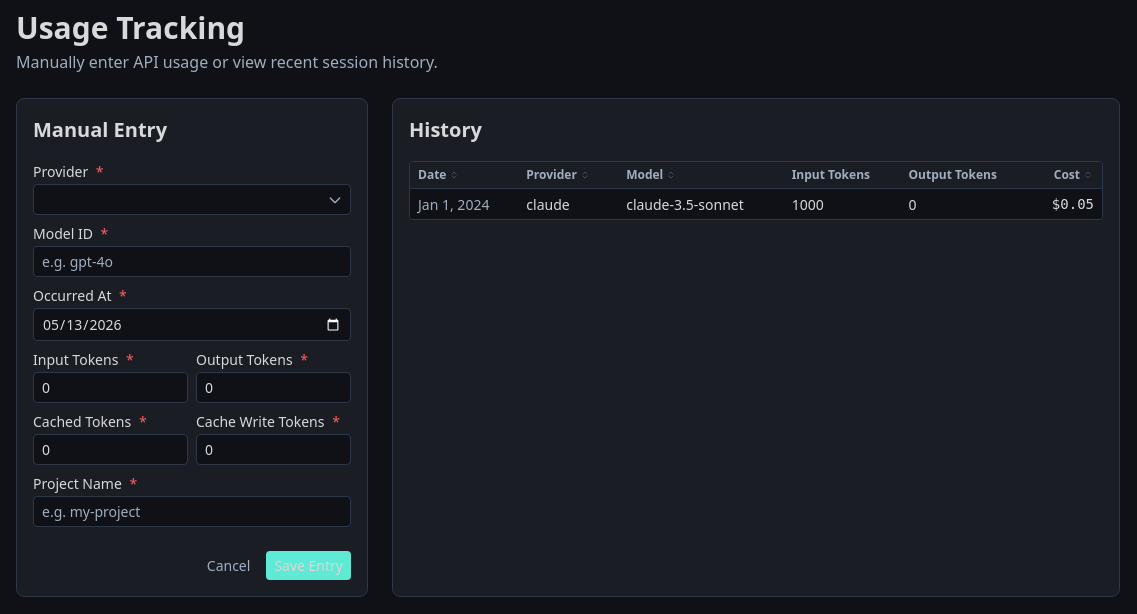
Test: Usage Page › submits the form successfully and shows a notification
Select "Claude Code" in the dropdown labelled "Provider *" at (192, 200), box [33,184,351,215]
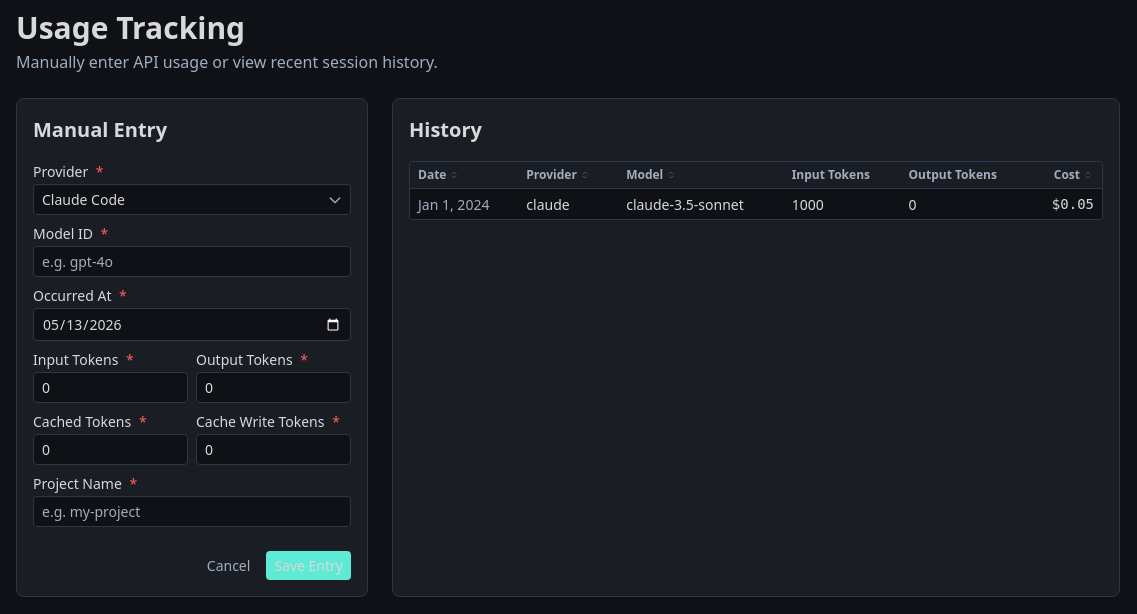
Type "claude-3.5-sonnet" into the field labelled "Model ID *" at (192, 262), box [33,246,351,277]
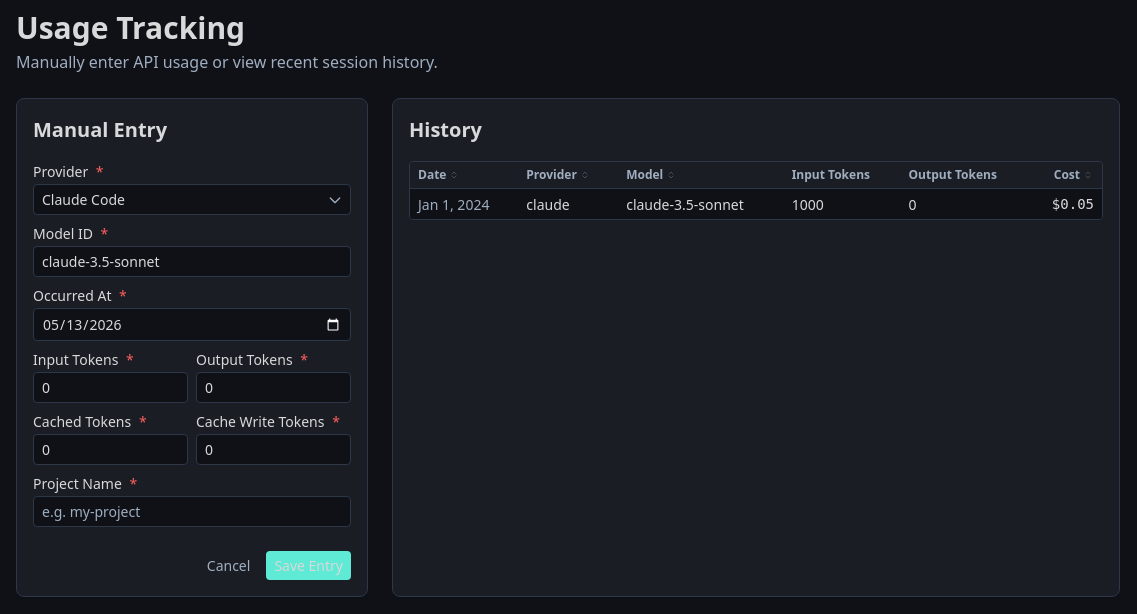
Replace the text in the number field labelled "Input Tokens *" with "1000" at (110, 388), box [33,372,188,403]
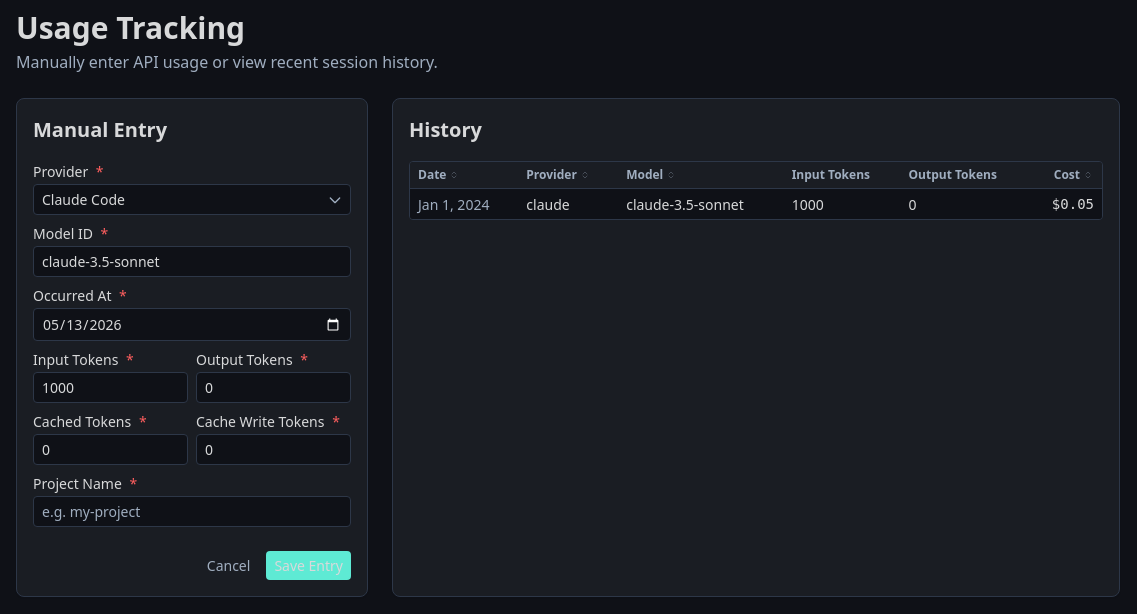
Replace the text in the number field labelled "Output Tokens *" with "500" at (274, 388), box [196,372,351,403]
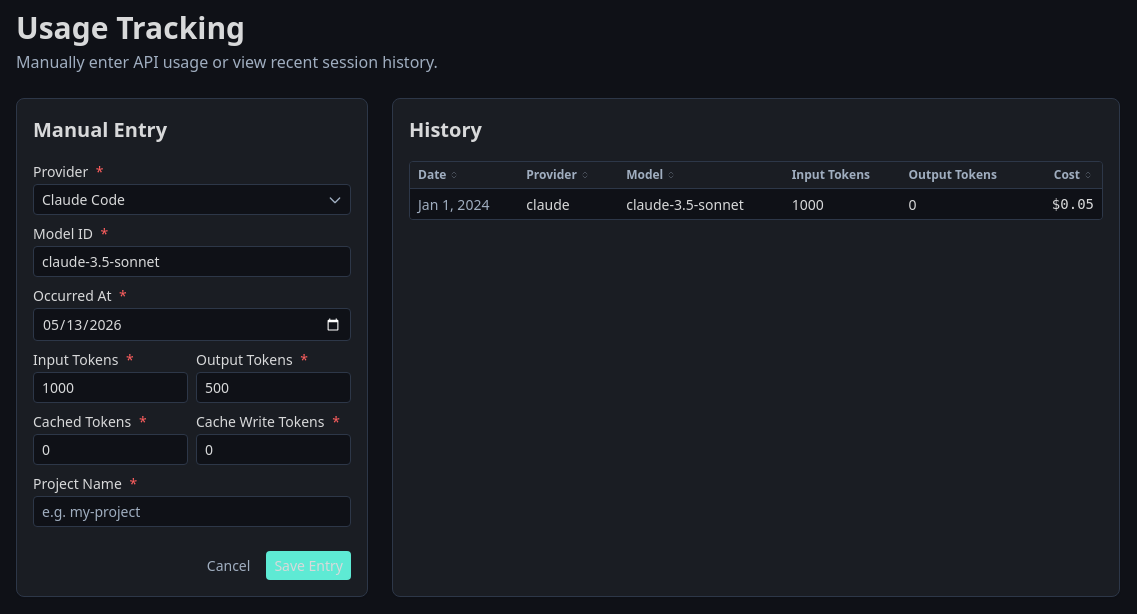
Type "test-project" into the field labelled "Project Name *" at (192, 512), box [33,496,351,527]
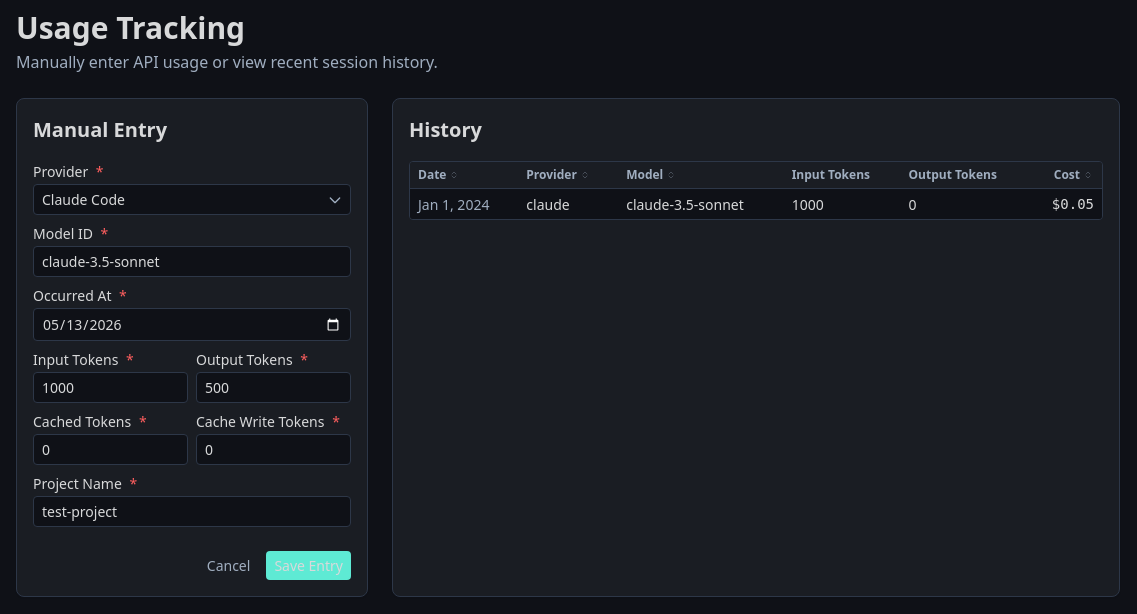
Click the button "Save Entry" at (309, 566), box [266,551,351,580]
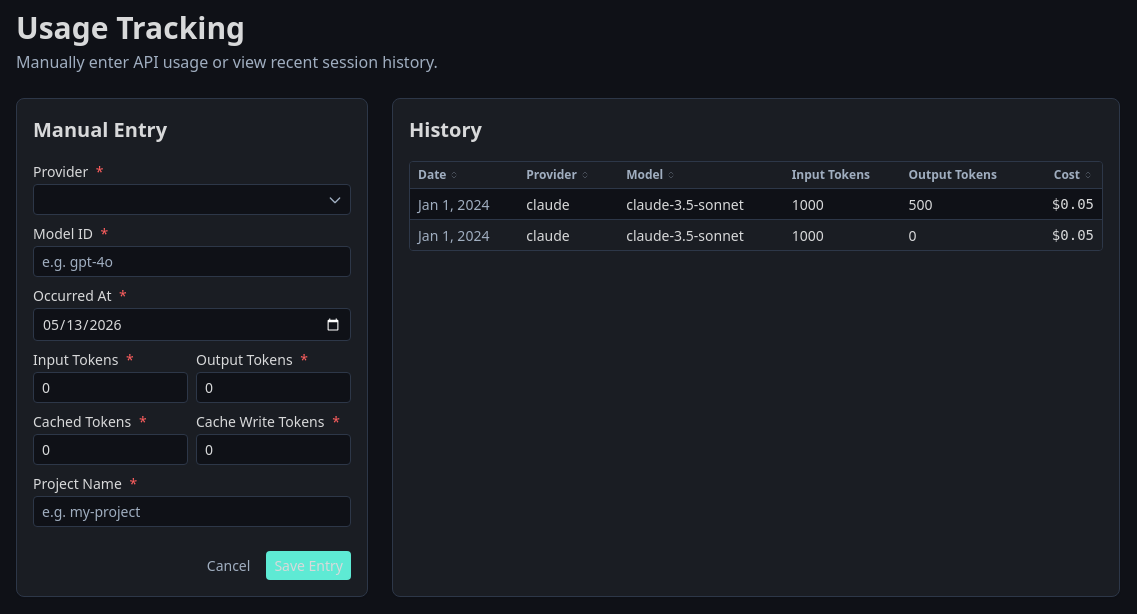
Check: the text "1000" next to "500" is shown, box [792,194,824,214]
Check: the text "500" is shown, box [900,188,1030,220]
